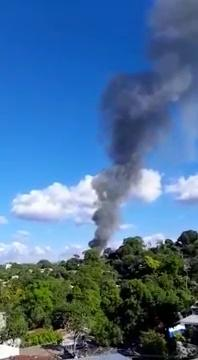smoke: (107, 95, 150, 166), (99, 178, 120, 242)
